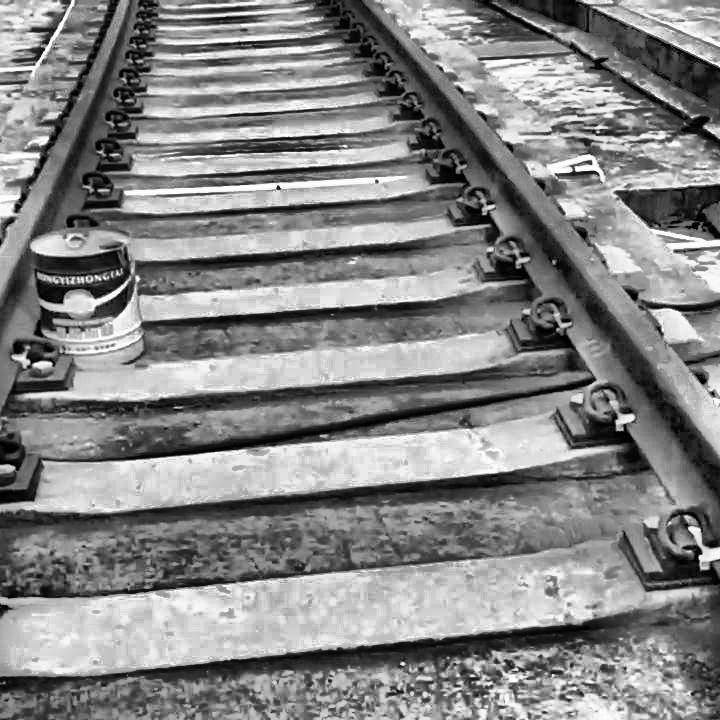Trash: (23, 206, 156, 366)
